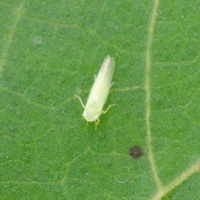insect: (75, 56, 114, 128)
